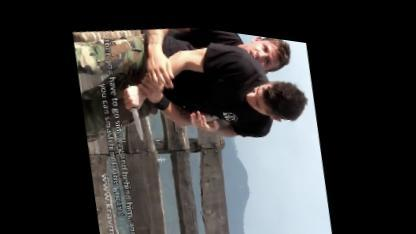knife: (118, 75, 154, 142)
